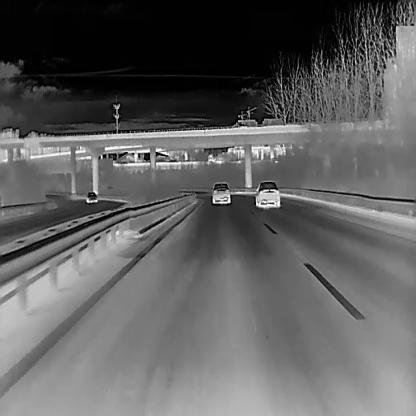car: (254, 180, 280, 206), (210, 182, 230, 203), (85, 191, 98, 202)
